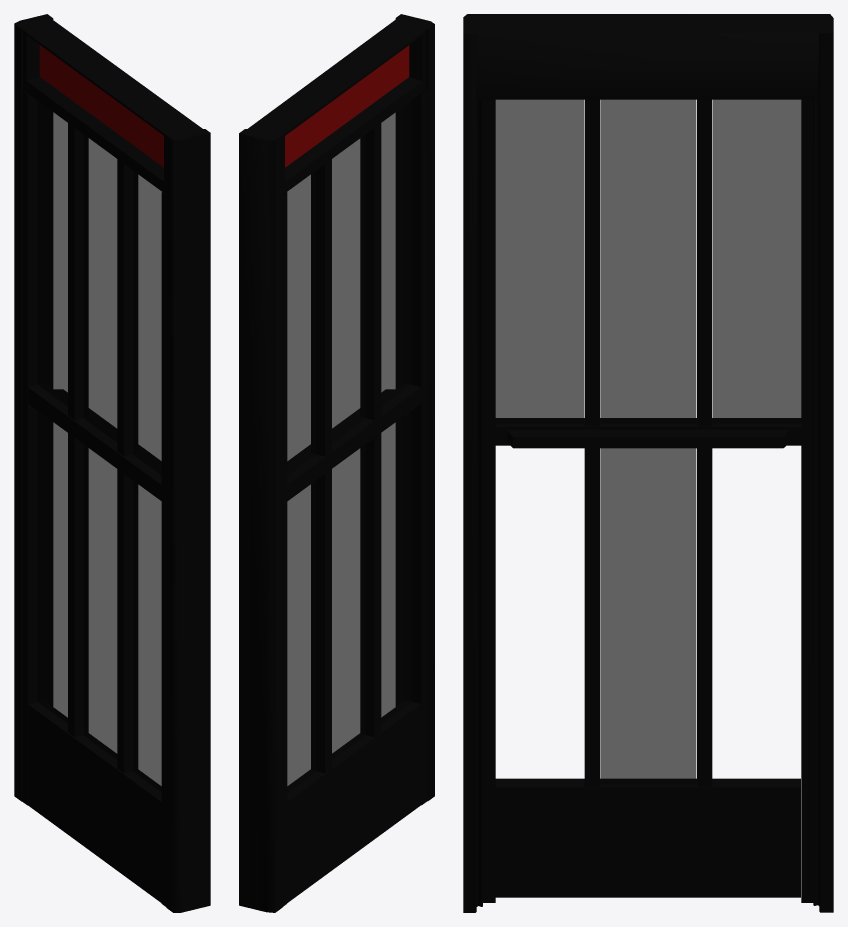
The model's file is DoorPhonebooth.fbx.
3 renders of one model, left to right at view 1: azimuth 30°, elevation 25°; view 2: azimuth 150°, elevation 25°; view 3: azimuth 270°, elevation 25°, orthographic. The views are drawn at different scales.
Visible parts, largest first — view 1: Phonebooth_Box; view 2: Phonebooth_Box; view 3: Phonebooth_Box.
Part boxes in pixels (bbox=[...]): Phonebooth_Box: bbox=[14, 14, 210, 912]; Phonebooth_Box: bbox=[239, 14, 434, 912]; Phonebooth_Box: bbox=[463, 14, 833, 912].
Size of the model in its own units: 9.46 by 196 by 74.9.
